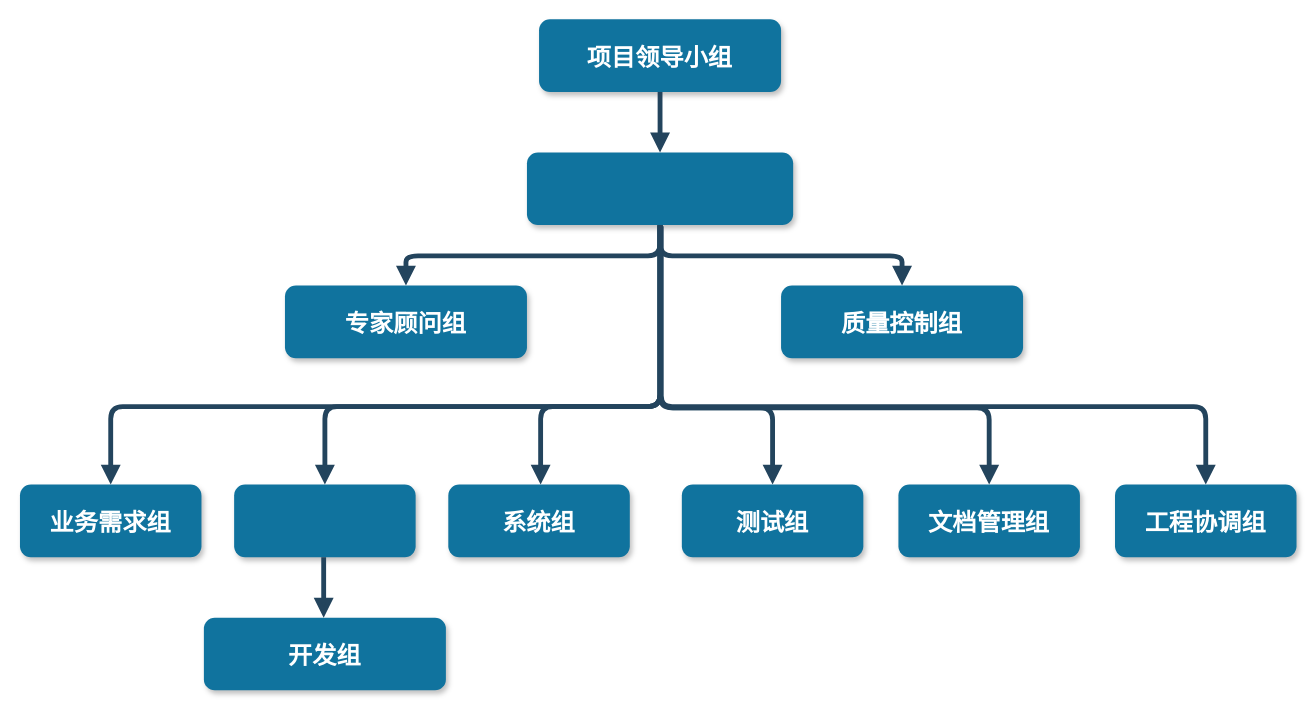
Some shapes in this 1316 by 710 pixel diagram are drawn without their labels. Each missing label, with the centre of its shape:
"工程项目组" goes at point 661,190.
"总体组" goes at point 325,522.
